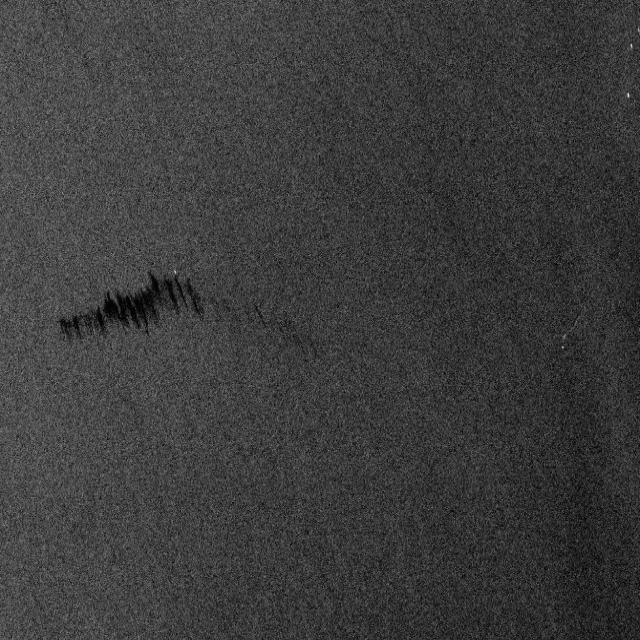oil-spill: (49, 268, 213, 354)
